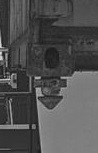Copy of Copy of Copy of twist_lock_2: (28, 69, 74, 113)
